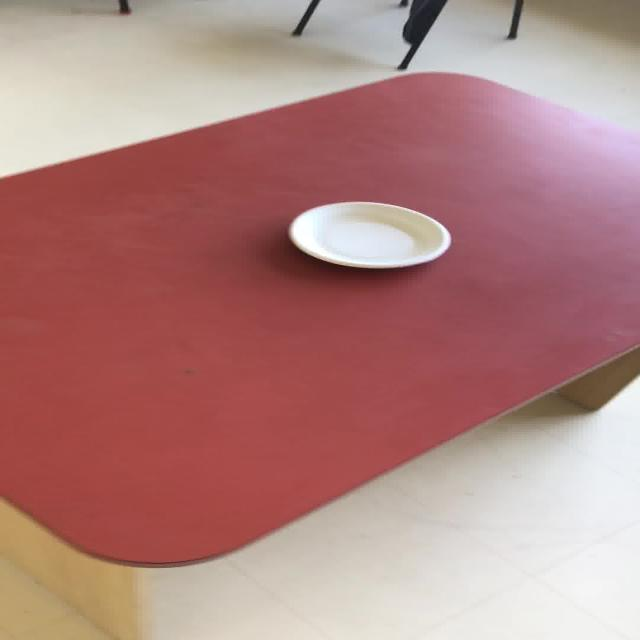plate: (287, 200, 451, 269)
